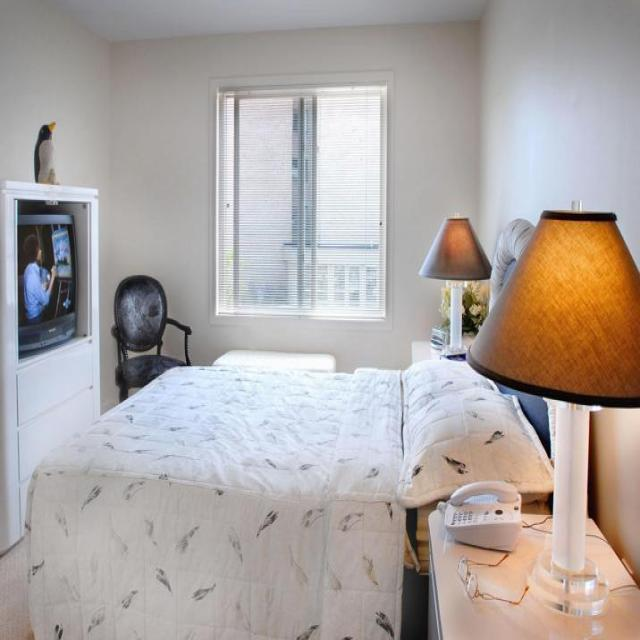chair: (111, 274, 191, 402)
chimni: (32, 119, 60, 185)
cupboard: (0, 179, 100, 555)
lamps: (466, 198, 639, 618), (418, 212, 492, 358)
plants: (437, 280, 489, 336)
table: (426, 500, 638, 639)
television: (16, 211, 78, 355)
window: (214, 80, 388, 320)
